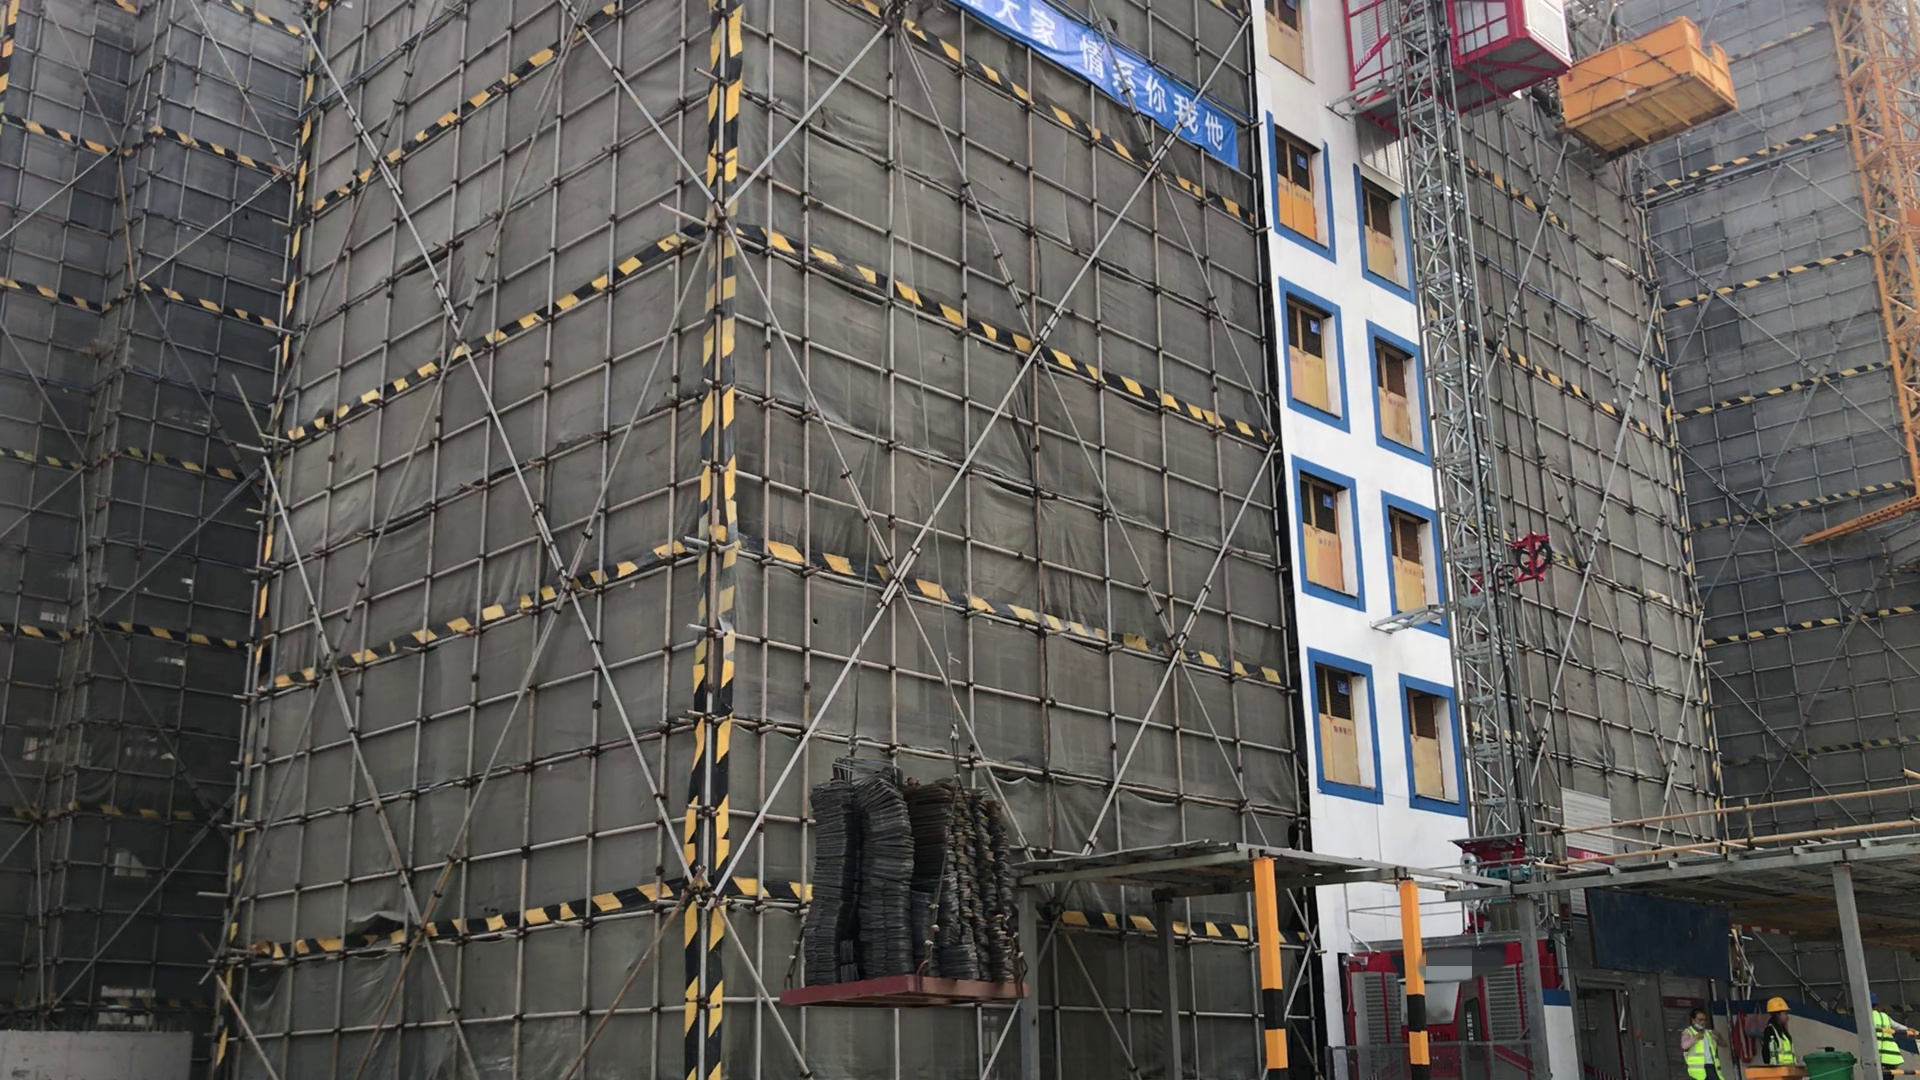helmet: (1766, 998, 1789, 1014), (1870, 990, 1877, 1004)
person: (1869, 990, 1920, 1076), (1755, 997, 1803, 1064), (1681, 1011, 1724, 1080)
vest: (1688, 1027, 1721, 1078), (1872, 1011, 1903, 1064), (1771, 1037, 1795, 1063)
